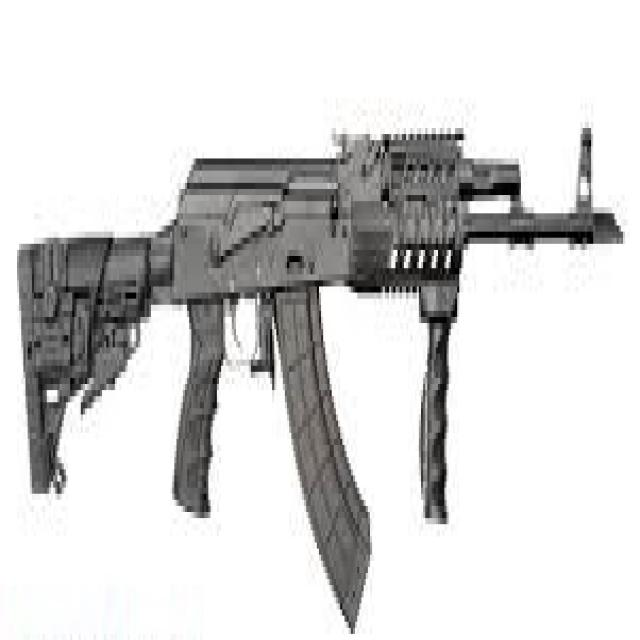rifle: (14, 109, 627, 640)
